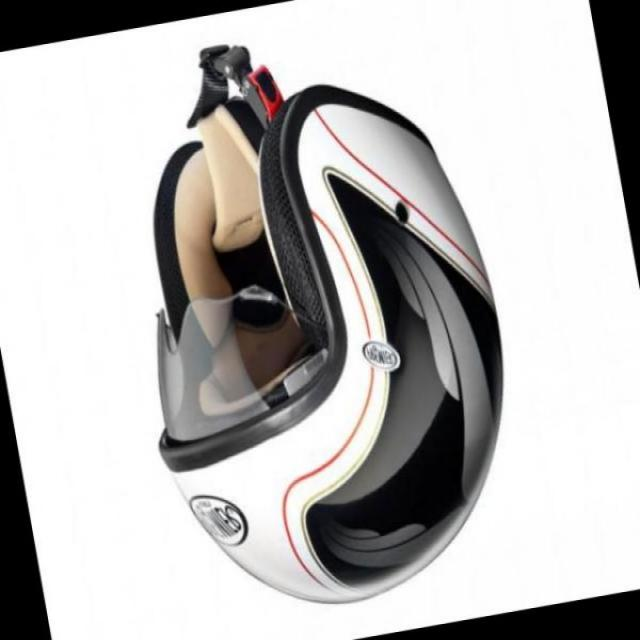Helmet: (114, 45, 519, 578)
